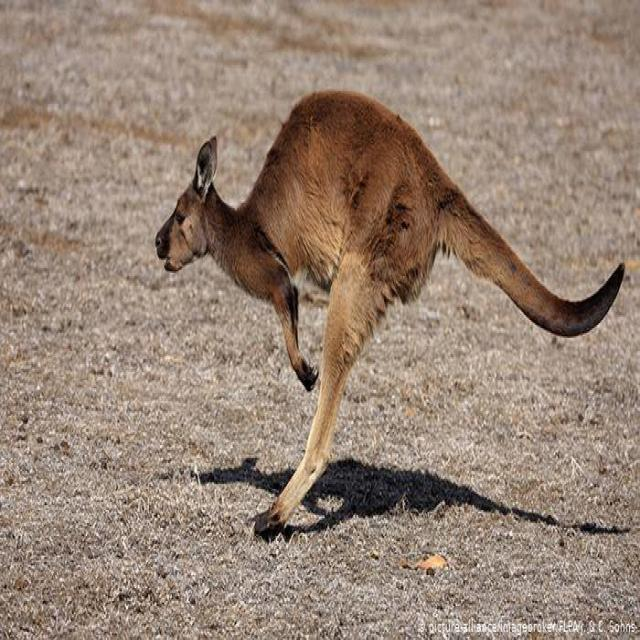Kangaroo: (149, 72, 629, 554)
